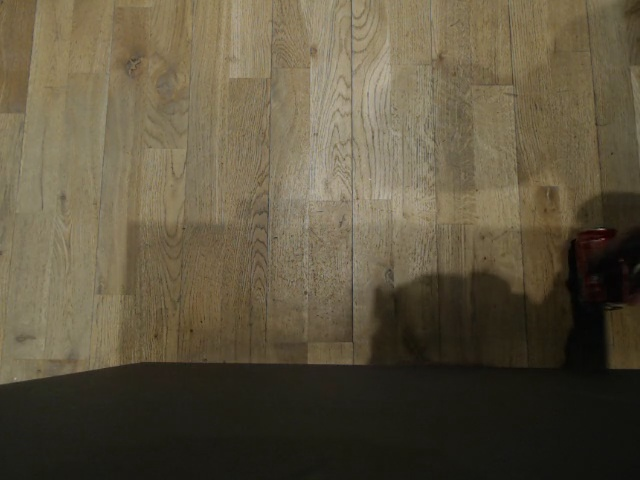cola: (570, 225, 630, 309)
